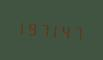four: (62, 20, 72, 41)
nine: (28, 18, 38, 38)
one: (51, 19, 61, 40), (17, 17, 27, 37)
seven: (73, 21, 83, 42), (40, 19, 50, 39)
